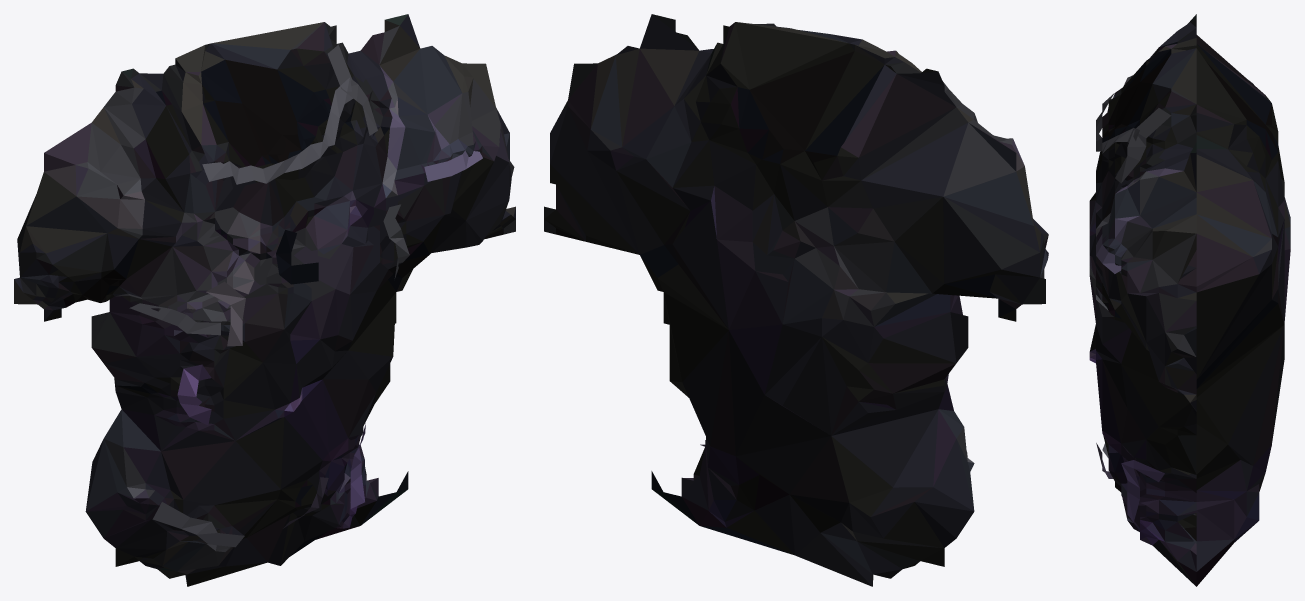
File: B01_4_shadowsteel_platebody.obj
3 renders of one model, left to right at view 1: azimuth 30°, elevation 25°; view 2: azimuth 150°, elevation 25°; view 3: azimuth 270°, elevation 25°, orthographic. The views are drawn at different scales.
Visible parts, largest first — view 1: B01_4_shadowsteel_platebody; view 2: B01_4_shadowsteel_platebody; view 3: B01_4_shadowsteel_platebody.
Boxes of the visible parts, x1,y1,x2,y2 form: B01_4_shadowsteel_platebody: [14, 14, 515, 586]; B01_4_shadowsteel_platebody: [544, 14, 1048, 586]; B01_4_shadowsteel_platebody: [1089, 14, 1290, 586].
Bounding box in the file's own units: 84 × 86 × 34.
